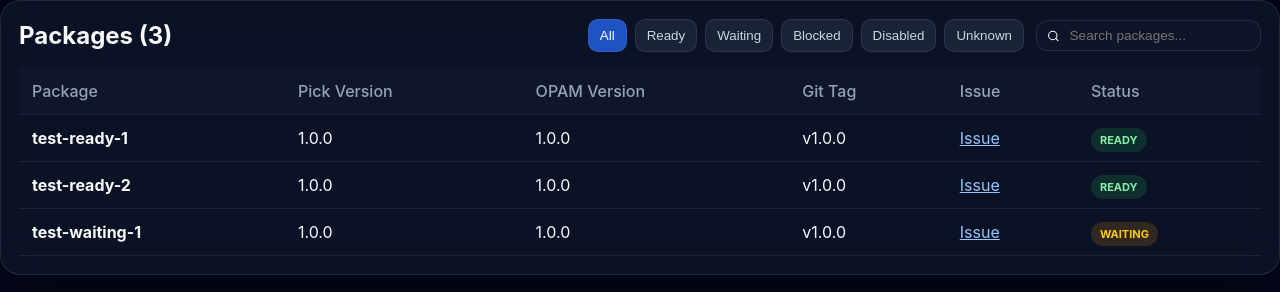
PackageTable › Search functionality › should combine search with filter
// Apply filter
Step 1. Click the button "Ready" → click(666, 36), box [635,19,697,52]
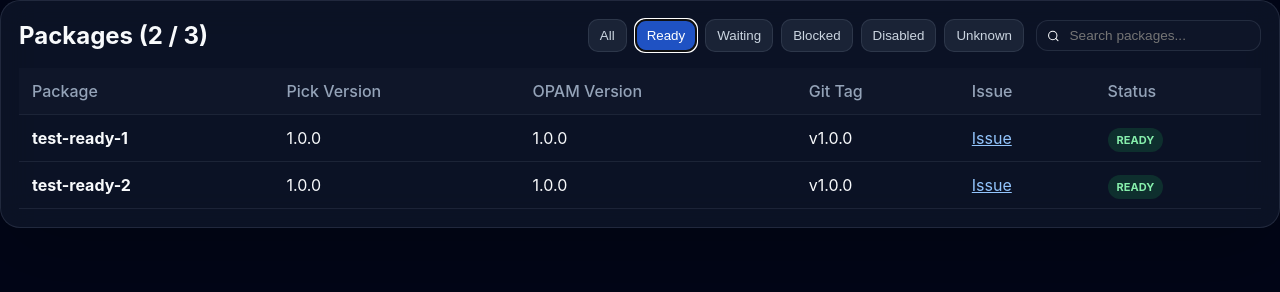
// Then search
Step 2. Type "ready-1" into the field with placeholder "Search packages..." → (1159, 36), box [1068,27,1250,44]
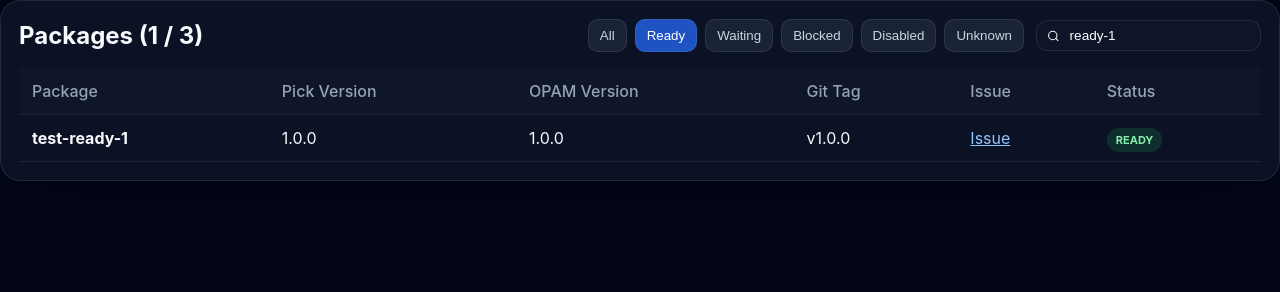
Check: the text "test-ready-1" is shown, box [32,128,128,148]
Check: the text "test-ready-2" is gone
